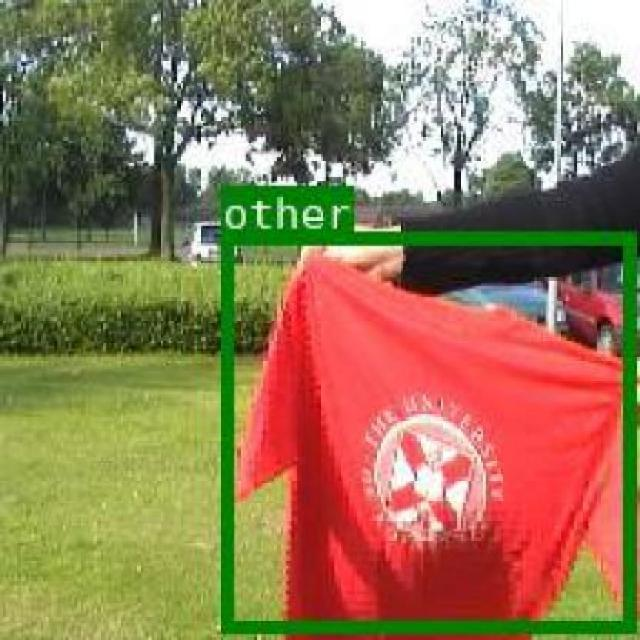other: (218, 230, 632, 628)
